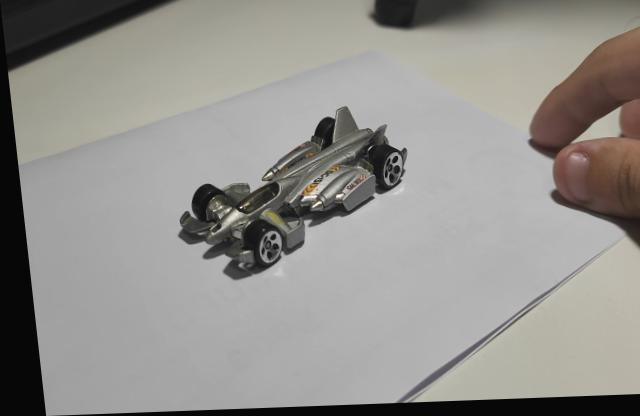05_DC121: (171, 109, 405, 284)
